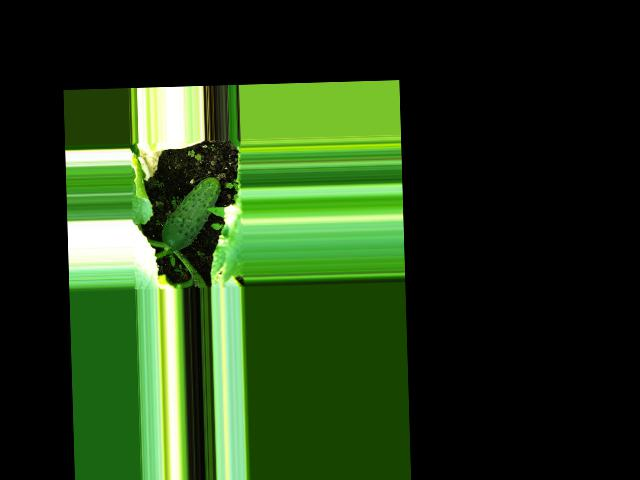cucumber: (160, 176, 222, 251)
